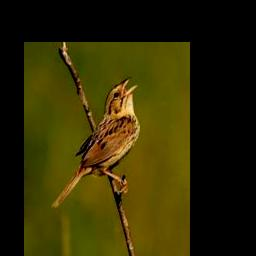Sparrow: (48, 75, 140, 209)
